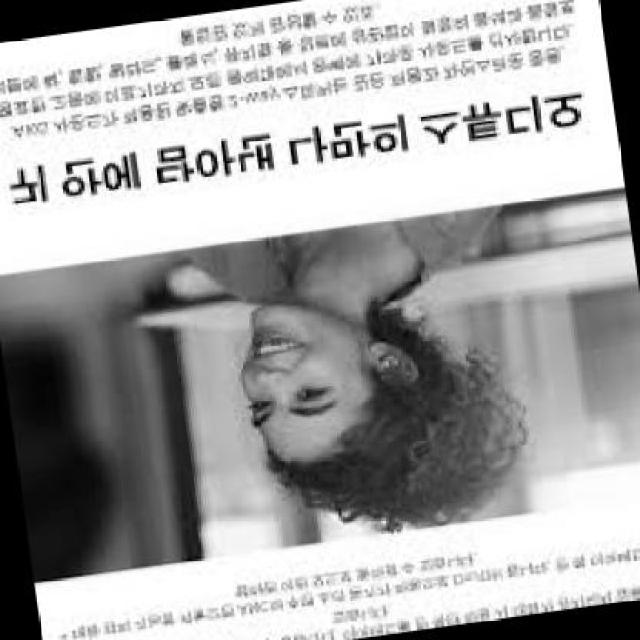earphone: (376, 343, 405, 383)
